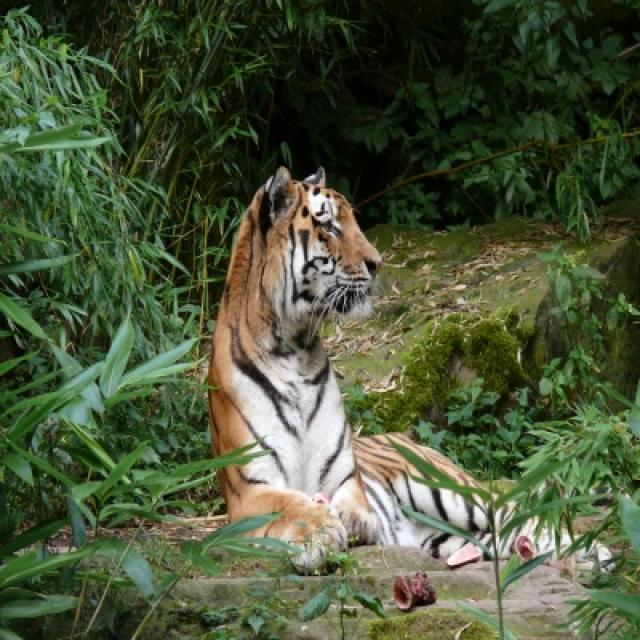Tiger: (210, 181, 526, 563)
